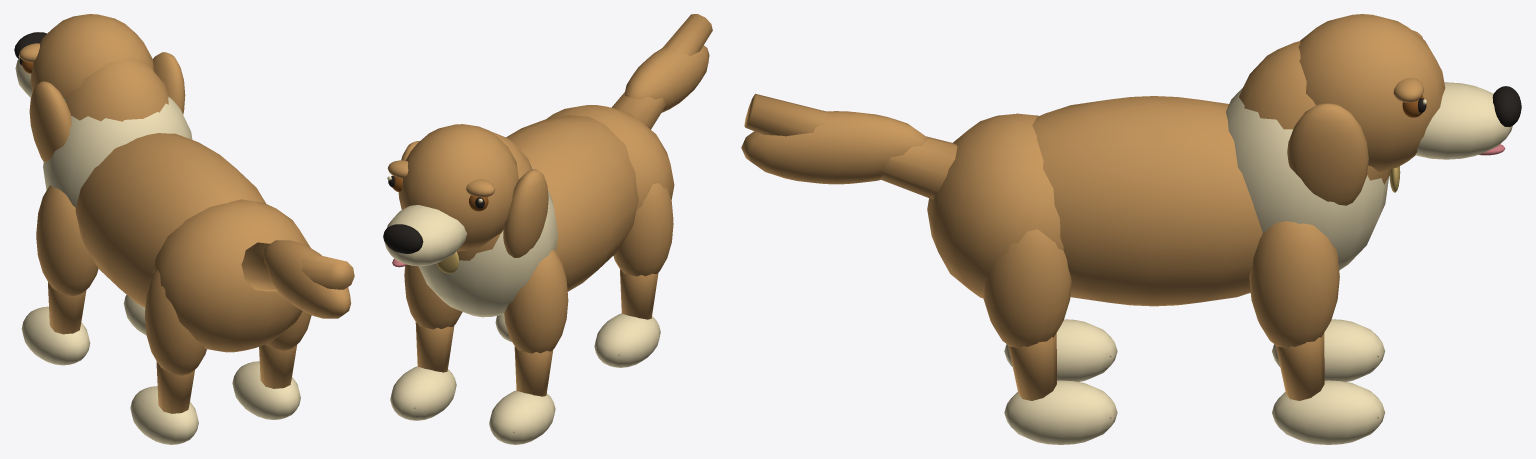
The model's file is pacific-dog.glb.
3 views of the same model, side by side, from view 1: azimuth 30°, elevation 25°; view 2: azimuth 150°, elevation 25°; view 3: azimuth 270°, elevation 25° (orthographic). The views are drawn at different scales.
Parts seen in each view (by area): view 1: LifeRoot_Golden retriever coat, Head_Golden retriever coat, Tail_Golden retriever coat, LegFrontL_Golden retriever coat, LifeRoot_Animal cream markings, LegBackL_Golden retriever coat, LegBackR_Animal cream markings, LegBackL_Animal cream markings, LegFrontL_Animal cream markings, LegBackR_Golden retriever coat, LegFrontR_Animal cream markings, Head_Animal nose and pupils (+1 smaller); view 2: LifeRoot_Golden retriever coat, Head_Golden retriever coat, LifeRoot_Animal cream markings, LegFrontL_Golden retriever coat, Tail_Golden retriever coat, LegBackL_Golden retriever coat, LegFrontR_Golden retriever coat, Head_Animal cream markings, LegFrontL_Animal cream markings, LegFrontR_Animal cream markings, LegBackL_Animal cream markings, Head_Animal nose and pupils; view 3: LifeRoot_Golden retriever coat, Head_Golden retriever coat, Tail_Golden retriever coat, LegFrontR_Golden retriever coat, LifeRoot_Animal cream markings, LegBackR_Golden retriever coat, LegBackR_Animal cream markings, LegFrontR_Animal cream markings, Head_Animal cream markings, LegFrontL_Animal cream markings, LegBackL_Animal cream markings, Head_Animal nose and pupils.
Part boxes in pixels (bbox=[...]): LifeRoot_Golden retriever coat: bbox=[65, 58, 310, 352]; Head_Golden retriever coat: bbox=[19, 14, 185, 161]; Tail_Golden retriever coat: bbox=[241, 240, 354, 318]; LegFrontL_Golden retriever coat: bbox=[36, 185, 98, 334]; LifeRoot_Animal cream markings: bbox=[43, 97, 192, 207]; LegBackL_Golden retriever coat: bbox=[145, 269, 206, 413]; LegBackR_Animal cream markings: bbox=[232, 361, 300, 419]; LegBackL_Animal cream markings: bbox=[130, 386, 198, 444]; LegFrontL_Animal cream markings: bbox=[21, 306, 90, 365]; LegBackR_Golden retriever coat: bbox=[259, 311, 311, 388]; LegFrontR_Animal cream markings: bbox=[123, 295, 146, 335]; Head_Animal nose and pupils: bbox=[14, 32, 46, 65]; LifeRoot_Golden retriever coat: bbox=[457, 105, 674, 291]; Head_Golden retriever coat: bbox=[387, 124, 548, 257]; LifeRoot_Animal cream markings: bbox=[418, 167, 557, 317]; LegFrontL_Golden retriever coat: bbox=[504, 249, 568, 396]; Tail_Golden retriever coat: bbox=[611, 14, 712, 129]; LegBackL_Golden retriever coat: bbox=[613, 183, 673, 319]; LegFrontR_Golden retriever coat: bbox=[404, 265, 462, 372]; Head_Animal cream markings: bbox=[384, 176, 482, 266]; LegFrontL_Animal cream markings: bbox=[489, 390, 555, 444]; LegFrontR_Animal cream markings: bbox=[390, 366, 456, 420]; LegBackL_Animal cream markings: bbox=[594, 313, 660, 367]; Head_Animal nose and pupils: bbox=[383, 176, 484, 253]; LifeRoot_Golden retriever coat: bbox=[927, 41, 1390, 306]; Head_Golden retriever coat: bbox=[1287, 14, 1445, 205]; Tail_Golden retriever coat: bbox=[741, 93, 957, 199]; LegFrontR_Golden retriever coat: bbox=[1249, 221, 1339, 400]; LifeRoot_Animal cream markings: bbox=[1226, 87, 1389, 270]; LegBackR_Golden retriever coat: bbox=[983, 229, 1071, 400]; LegBackR_Animal cream markings: bbox=[1004, 380, 1117, 444]; LegFrontR_Animal cream markings: bbox=[1272, 380, 1385, 444]; Head_Animal cream markings: bbox=[1415, 82, 1512, 159]; LegFrontL_Animal cream markings: bbox=[1272, 319, 1385, 381]; LegBackL_Animal cream markings: bbox=[1004, 319, 1117, 381]; Head_Animal nose and pupils: bbox=[1418, 86, 1521, 127].
Size of the model in its own units: 0.5 by 0.95 by 1.72.
